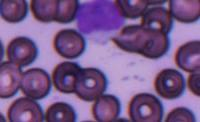M: (74, 0, 125, 40)
